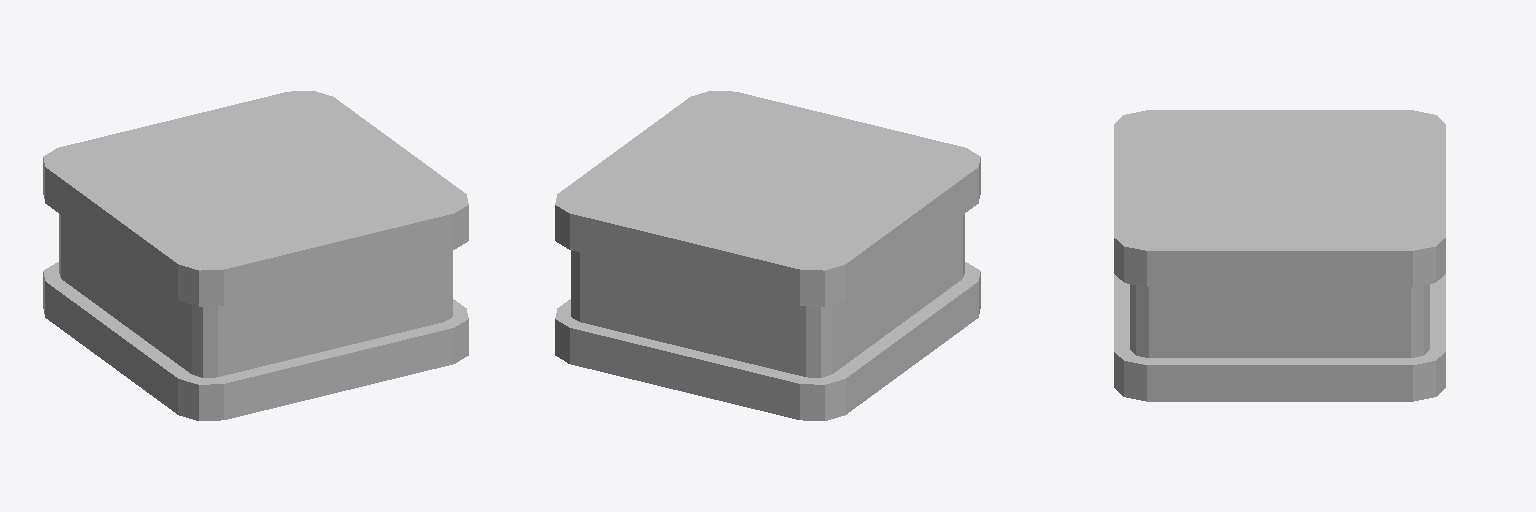
The model's file is blockMovingLarge.obj.
The picture shows the model from 3 angles: view 1: azimuth 30°, elevation 25°; view 2: azimuth 150°, elevation 25°; view 3: azimuth 270°, elevation 25°; orthographic projection.
Visible parts, largest first — view 1: blockMovingLarge; view 2: blockMovingLarge; view 3: blockMovingLarge.
Boxes of the visible parts, x1,y1,x2,y2 form: blockMovingLarge: [43, 91, 468, 420]; blockMovingLarge: [555, 91, 980, 420]; blockMovingLarge: [1114, 110, 1445, 401].
Size of the model in its own units: 1 by 0.5 by 1.